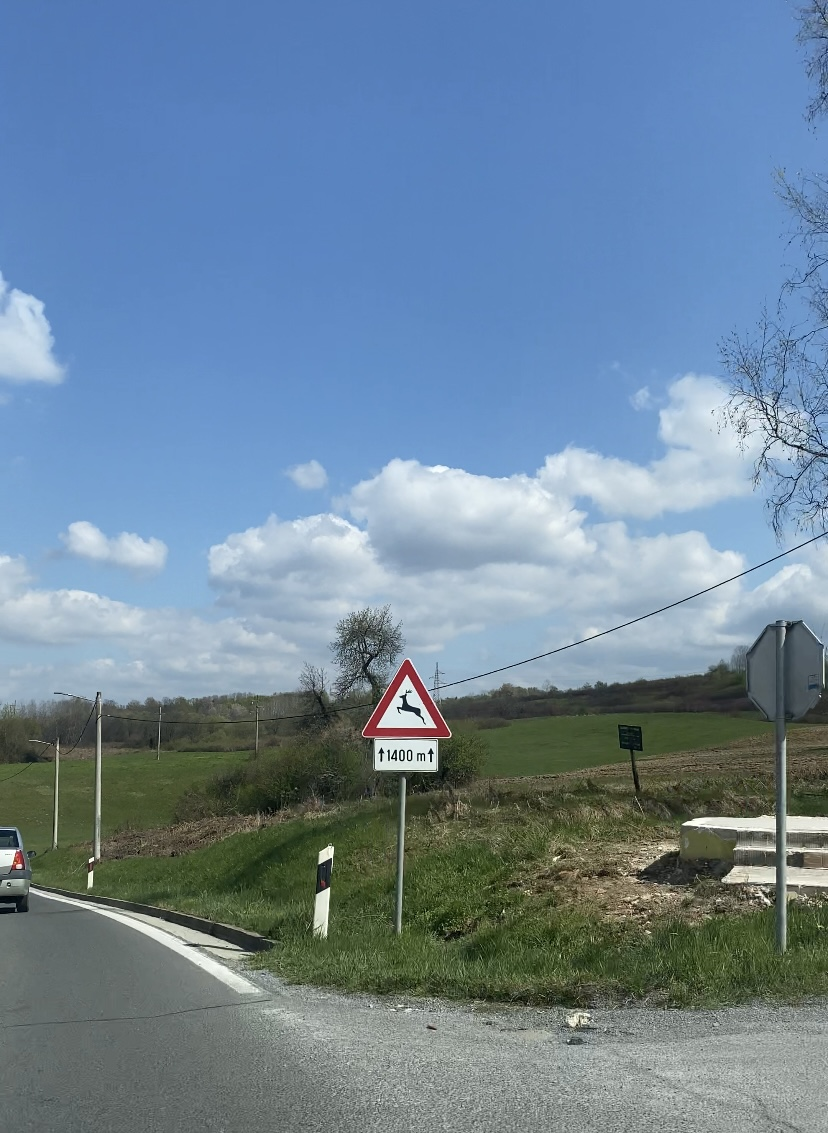Divljač na cesti: (362, 658, 452, 737)
